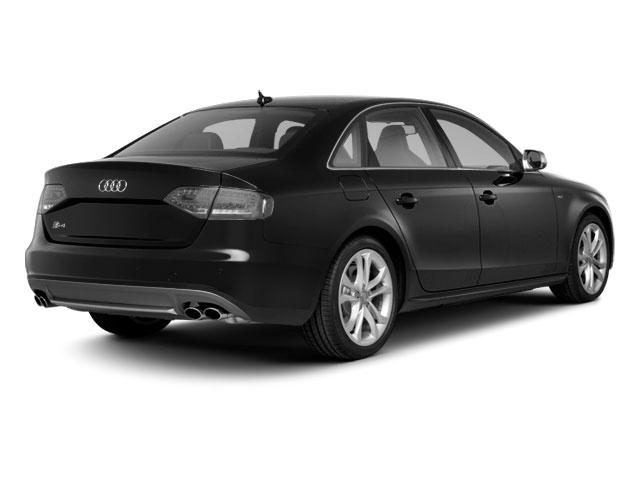car: (23, 89, 619, 366)
